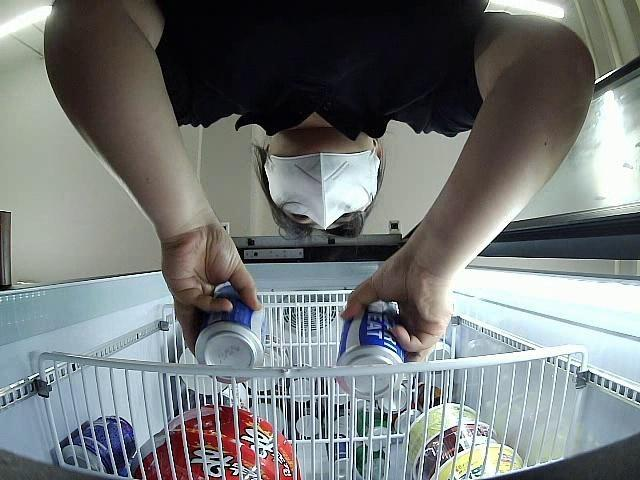13_pocariSweat: (192, 283, 263, 380), (336, 302, 404, 399)
